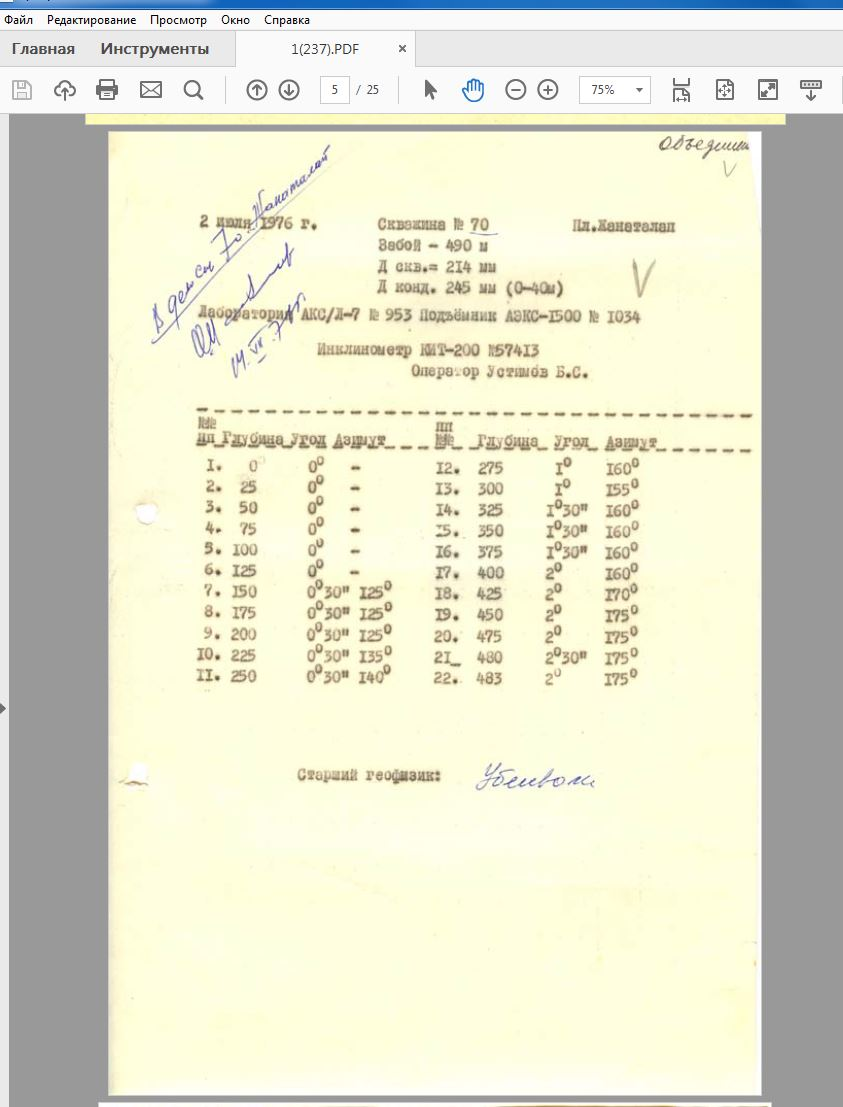Borderless: (188, 407, 682, 707)
